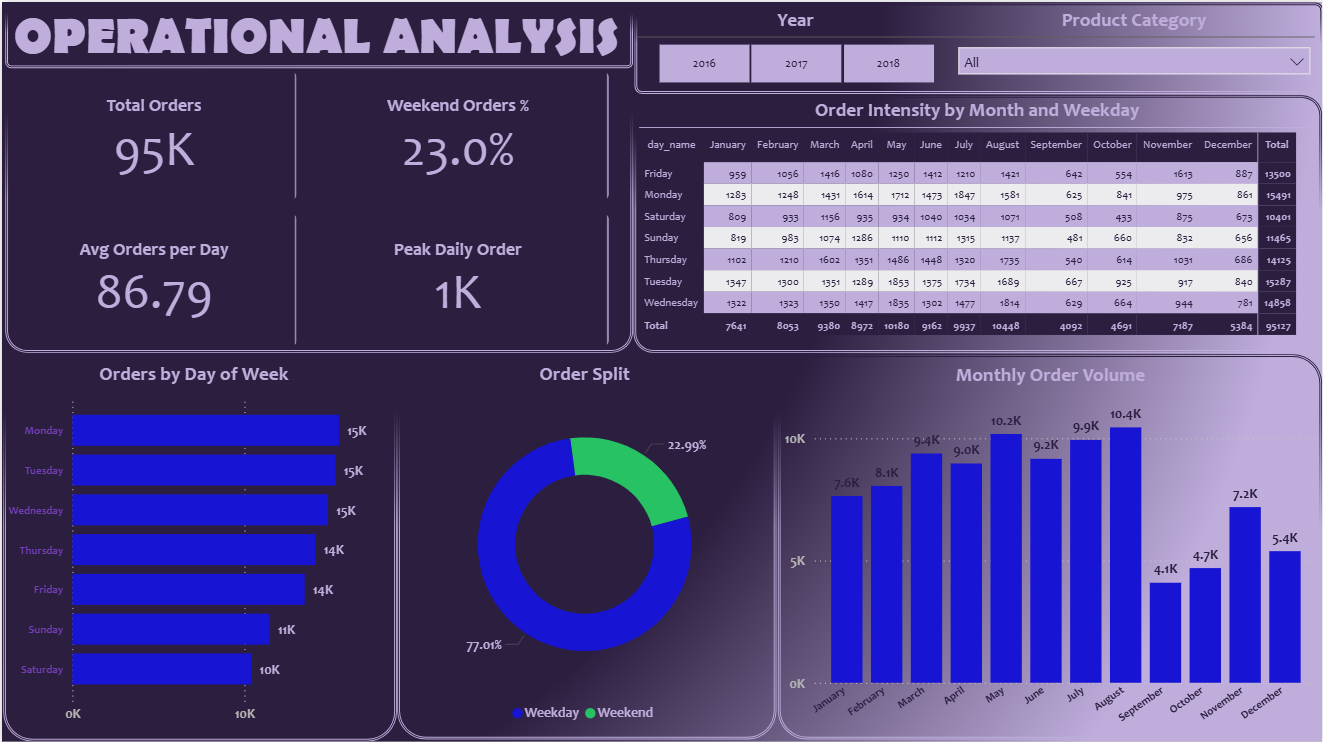

The dashboard page shown, as its layout file describes it:
{"tool":"powerbi","page":{"name":"Operational Analysis","canvas":[1280,720],"ordinal":4},"visuals":[{"type":"slicer","title":"Product Category","fields":{"Values":["dim_product.product_category_name_englist"]},"box":[922,5.3,351.1,73.4],"z":0,"group":"g1"},{"type":"cardVisual","fields":{"Data":["_measures.Total Orders"]},"box":[8.5,68.1,287.4,124.5],"z":0},{"type":"slicer","title":"Year","fields":{"Values":["dim_date.year"]},"box":[616.3,5.3,305.7,73.4],"z":1000,"group":"g1"},{"type":"clusteredBarChart","title":"Orders by Day of Week","fields":{"Category":["dim_date.day_name"],"Y":["_measures.Total Orders"]},"box":[0,348.9,372.2,358.9],"z":1000},{"type":"cardVisual","fields":{"Data":["_measures.Avg Orders per Day"]},"box":[8.5,205.4,287.4,128.8],"z":2000},{"type":"columnChart","title":"Monthly Order Volume","fields":{"Category":["dim_date.month_name"],"Y":["_measures.Total Orders"]},"box":[753.3,350,526.7,358.9],"z":3000},{"type":"cardVisual","fields":{"Data":["_measures.Peak Daily Order"]},"box":[295.9,205.4,303.4,128.8],"z":4000},{"type":"pivotTable","title":"Order Intensity by Month and Weekday","fields":{"Rows":["dim_date.day_name"],"Columns":["dim_date.month_name"],"Values":["_measures.Total Orders"]},"box":[617.4,93.7,655.7,242.7],"z":5000},{"type":"cardVisual","fields":{"Data":["_measures.Weekend Orders %"]},"box":[295.9,68.1,303.4,124.5],"z":6000},{"type":"donutChart","title":"Order Split","fields":{"Category":["dim_date.day_type"],"Y":["_measures.Total Orders"]},"box":[385.6,348.9,358.9,360],"z":7000},{"type":"group","id":"g1","title":"Group 1","box":[616.3,5.3,656.7,73.4],"z":8000}]}

Visuals, with their boxes in screenshot pixels (x1, y1, x2, y2), scaled from the page's 1280x720 canvas onto the 1323x742 screenshot:
"Product Category" slicer: pyautogui.locateOnScreen(953, 5, 1316, 81)
cardVisual - _measures.Total Orders: pyautogui.locateOnScreen(9, 70, 306, 198)
"Year" slicer: pyautogui.locateOnScreen(637, 5, 953, 81)
"Orders by Day of Week" clusteredBarChart: pyautogui.locateOnScreen(0, 360, 385, 729)
cardVisual - _measures.Avg Orders per Day: pyautogui.locateOnScreen(9, 212, 306, 344)
"Monthly Order Volume" columnChart: pyautogui.locateOnScreen(779, 361, 1322, 731)
cardVisual - _measures.Peak Daily Order: pyautogui.locateOnScreen(306, 212, 619, 344)
"Order Intensity by Month and Weekday" pivotTable: pyautogui.locateOnScreen(638, 97, 1316, 347)
cardVisual - _measures.Weekend Orders %: pyautogui.locateOnScreen(306, 70, 619, 198)
"Order Split" donutChart: pyautogui.locateOnScreen(399, 360, 770, 731)
"Group 1" group: pyautogui.locateOnScreen(637, 5, 1316, 81)
